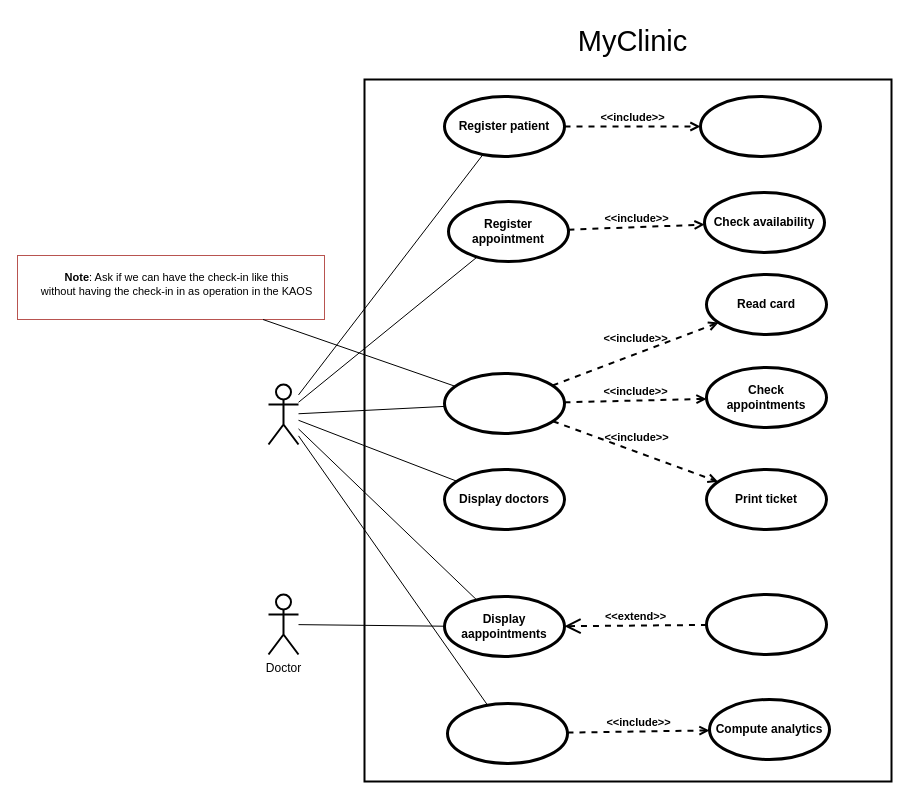
Image size: 910x799. Some labels were removed from this diagram. Each missing label, with the centre of its shape:
Check-in: [504,403]
Di splay message: [766,624]
Patient: [283,414]
Review doctor: [507,733]
Send email: [760,126]
